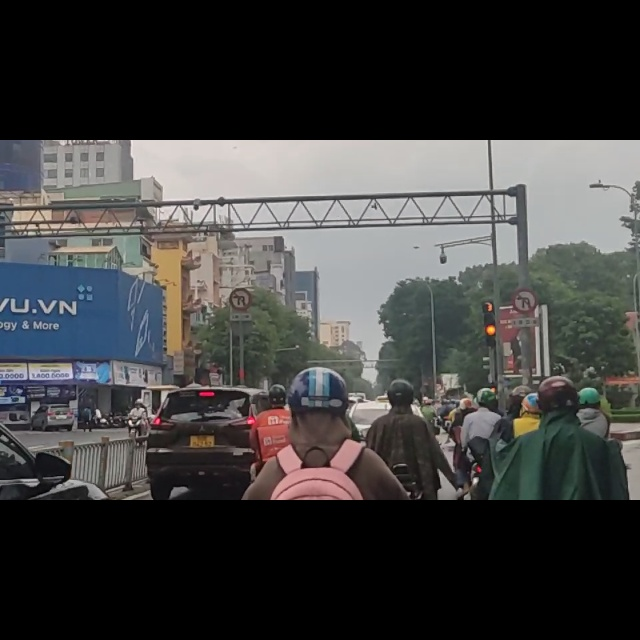bien_cam: (230, 262, 253, 302), (514, 267, 536, 306)
